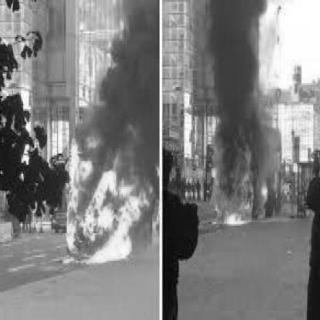Fire: (61, 117, 153, 266)
Smoke: (94, 0, 160, 161)
